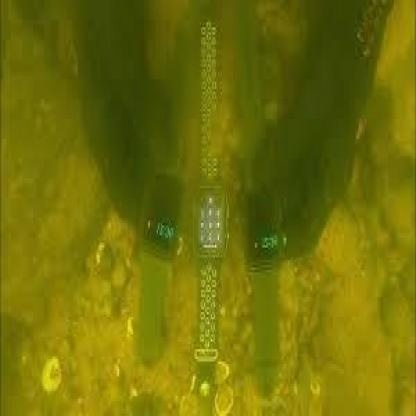electronics: (129, 5, 190, 376), (188, 15, 232, 416), (240, 24, 286, 404)
